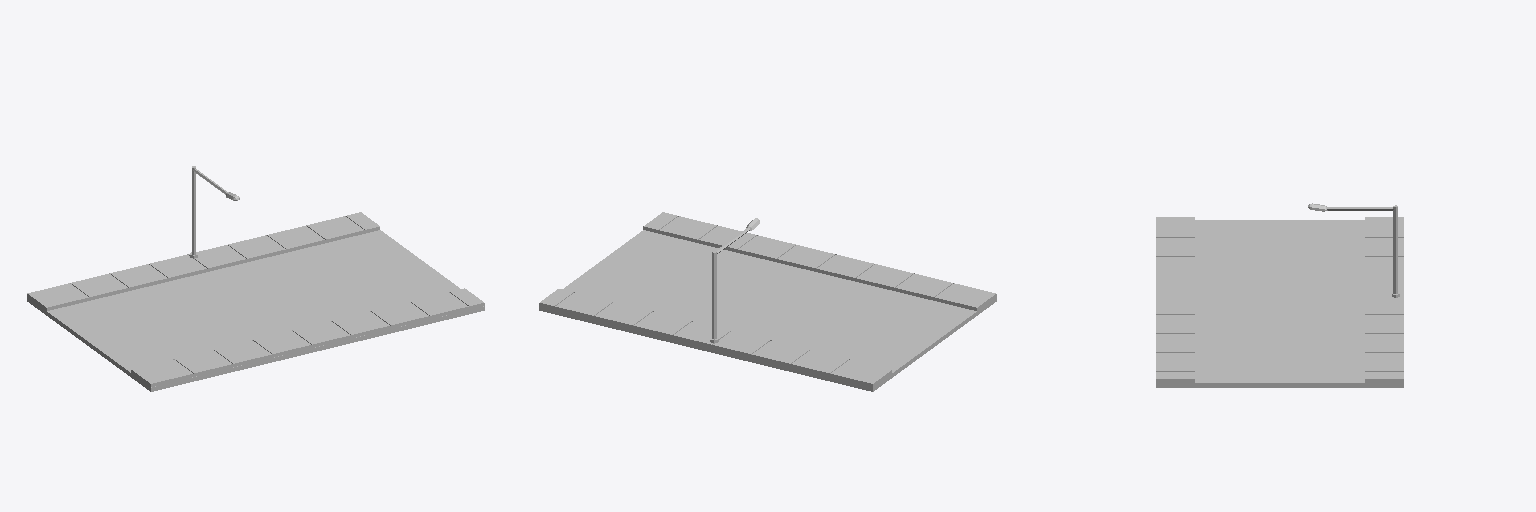
The picture shows the model from 3 angles: view 1: azimuth 30°, elevation 25°; view 2: azimuth 150°, elevation 25°; view 3: azimuth 270°, elevation 25°; orthographic projection.
Visible parts, largest first — view 1: Объект_Куб, Объект_Куб.1-Ноль_объект, Объект_Куб.1-Ноль_объект_1; view 2: Объект_Куб, Объект_Куб.1-Ноль_объект_1, Объект_Куб.1-Ноль_объект; view 3: Объект_Куб, Объект_Куб.1-Ноль_объект, Объект_Куб.1-Ноль_объект_1.
Boxes of the visible parts, x1,y1,x2,y2 form: Объект_Куб: [27, 230, 484, 391]; Объект_Куб.1-Ноль_объект: [131, 288, 484, 386]; Объект_Куб.1-Ноль_объект_1: [27, 212, 379, 311]; Объект_Куб: [539, 230, 996, 391]; Объект_Куб.1-Ноль_объект_1: [539, 289, 891, 387]; Объект_Куб.1-Ноль_объект: [643, 212, 996, 311]; Объект_Куб: [1156, 220, 1403, 387]; Объект_Куб.1-Ноль_объект: [1156, 217, 1194, 383]; Объект_Куб.1-Ноль_объект_1: [1365, 217, 1403, 383].
Size of the model in its own units: 659 by 189 by 423.